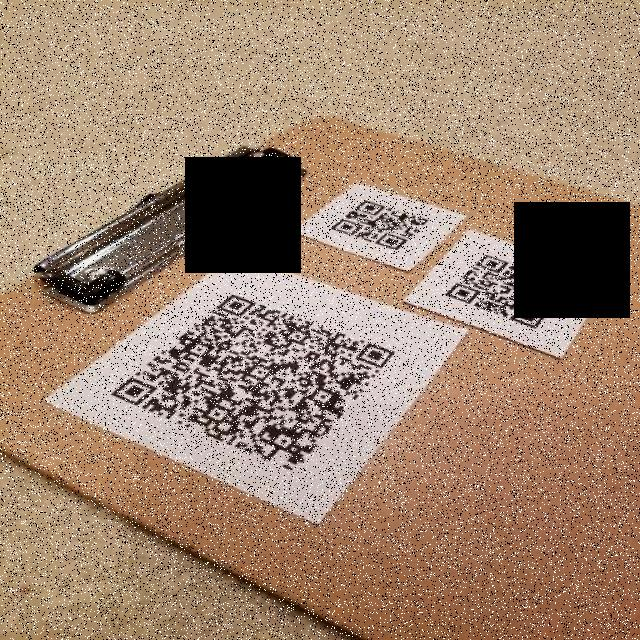QR_CODE: (102, 285, 412, 484), (440, 246, 581, 339), (317, 176, 438, 255)
